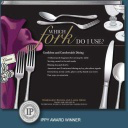Fork: (14, 42, 35, 104)
